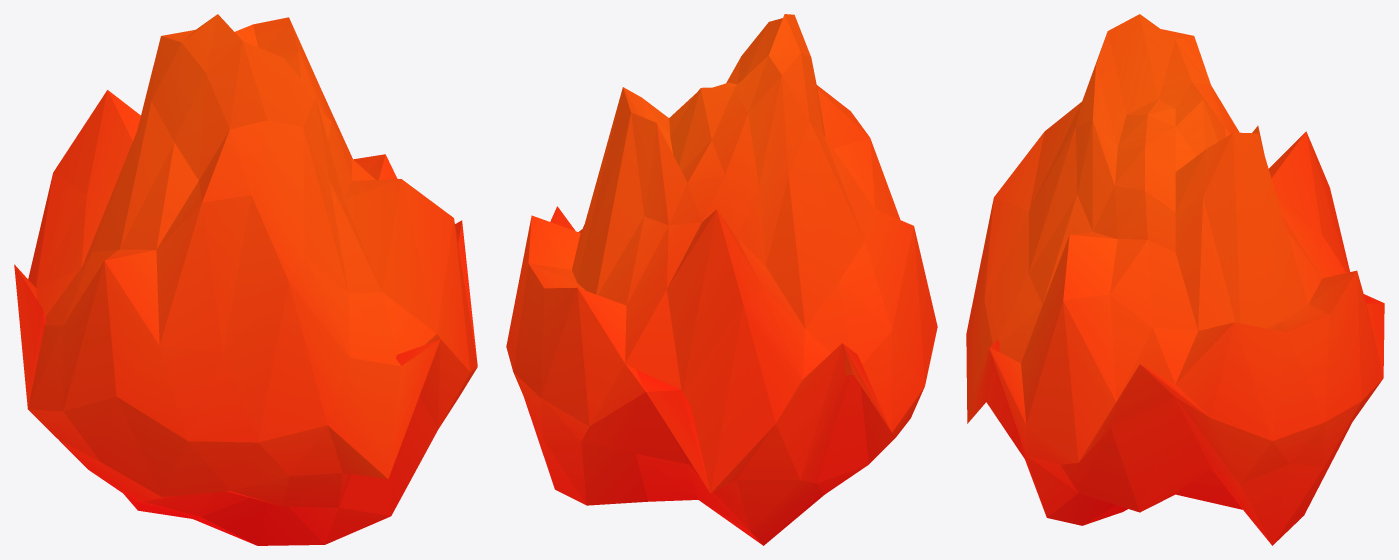
File: fire.gltf
The picture shows the model from 3 angles, left to right: view 1: azimuth 30°, elevation 25°; view 2: azimuth 150°, elevation 25°; view 3: azimuth 270°, elevation 25°; orthographic projection. The views are drawn at different scales.
Visible parts, largest first — view 1: Icosphere; view 2: Icosphere; view 3: Icosphere.
Boxes of the visible parts, <box> form: Icosphere: <box>14,14,477,545</box>; Icosphere: <box>506,14,937,545</box>; Icosphere: <box>966,14,1384,545</box>.
Bounding box in the file's own units: 2 × 2.56 × 2.
1 material, 1 textured.
